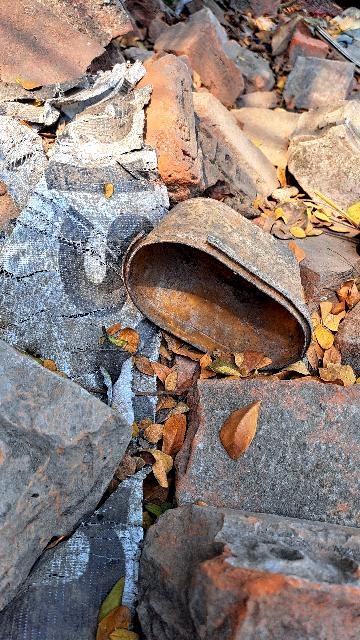hardplastic: (121, 180, 347, 359)
